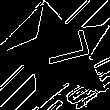L_W: (30, 35, 89, 77)
